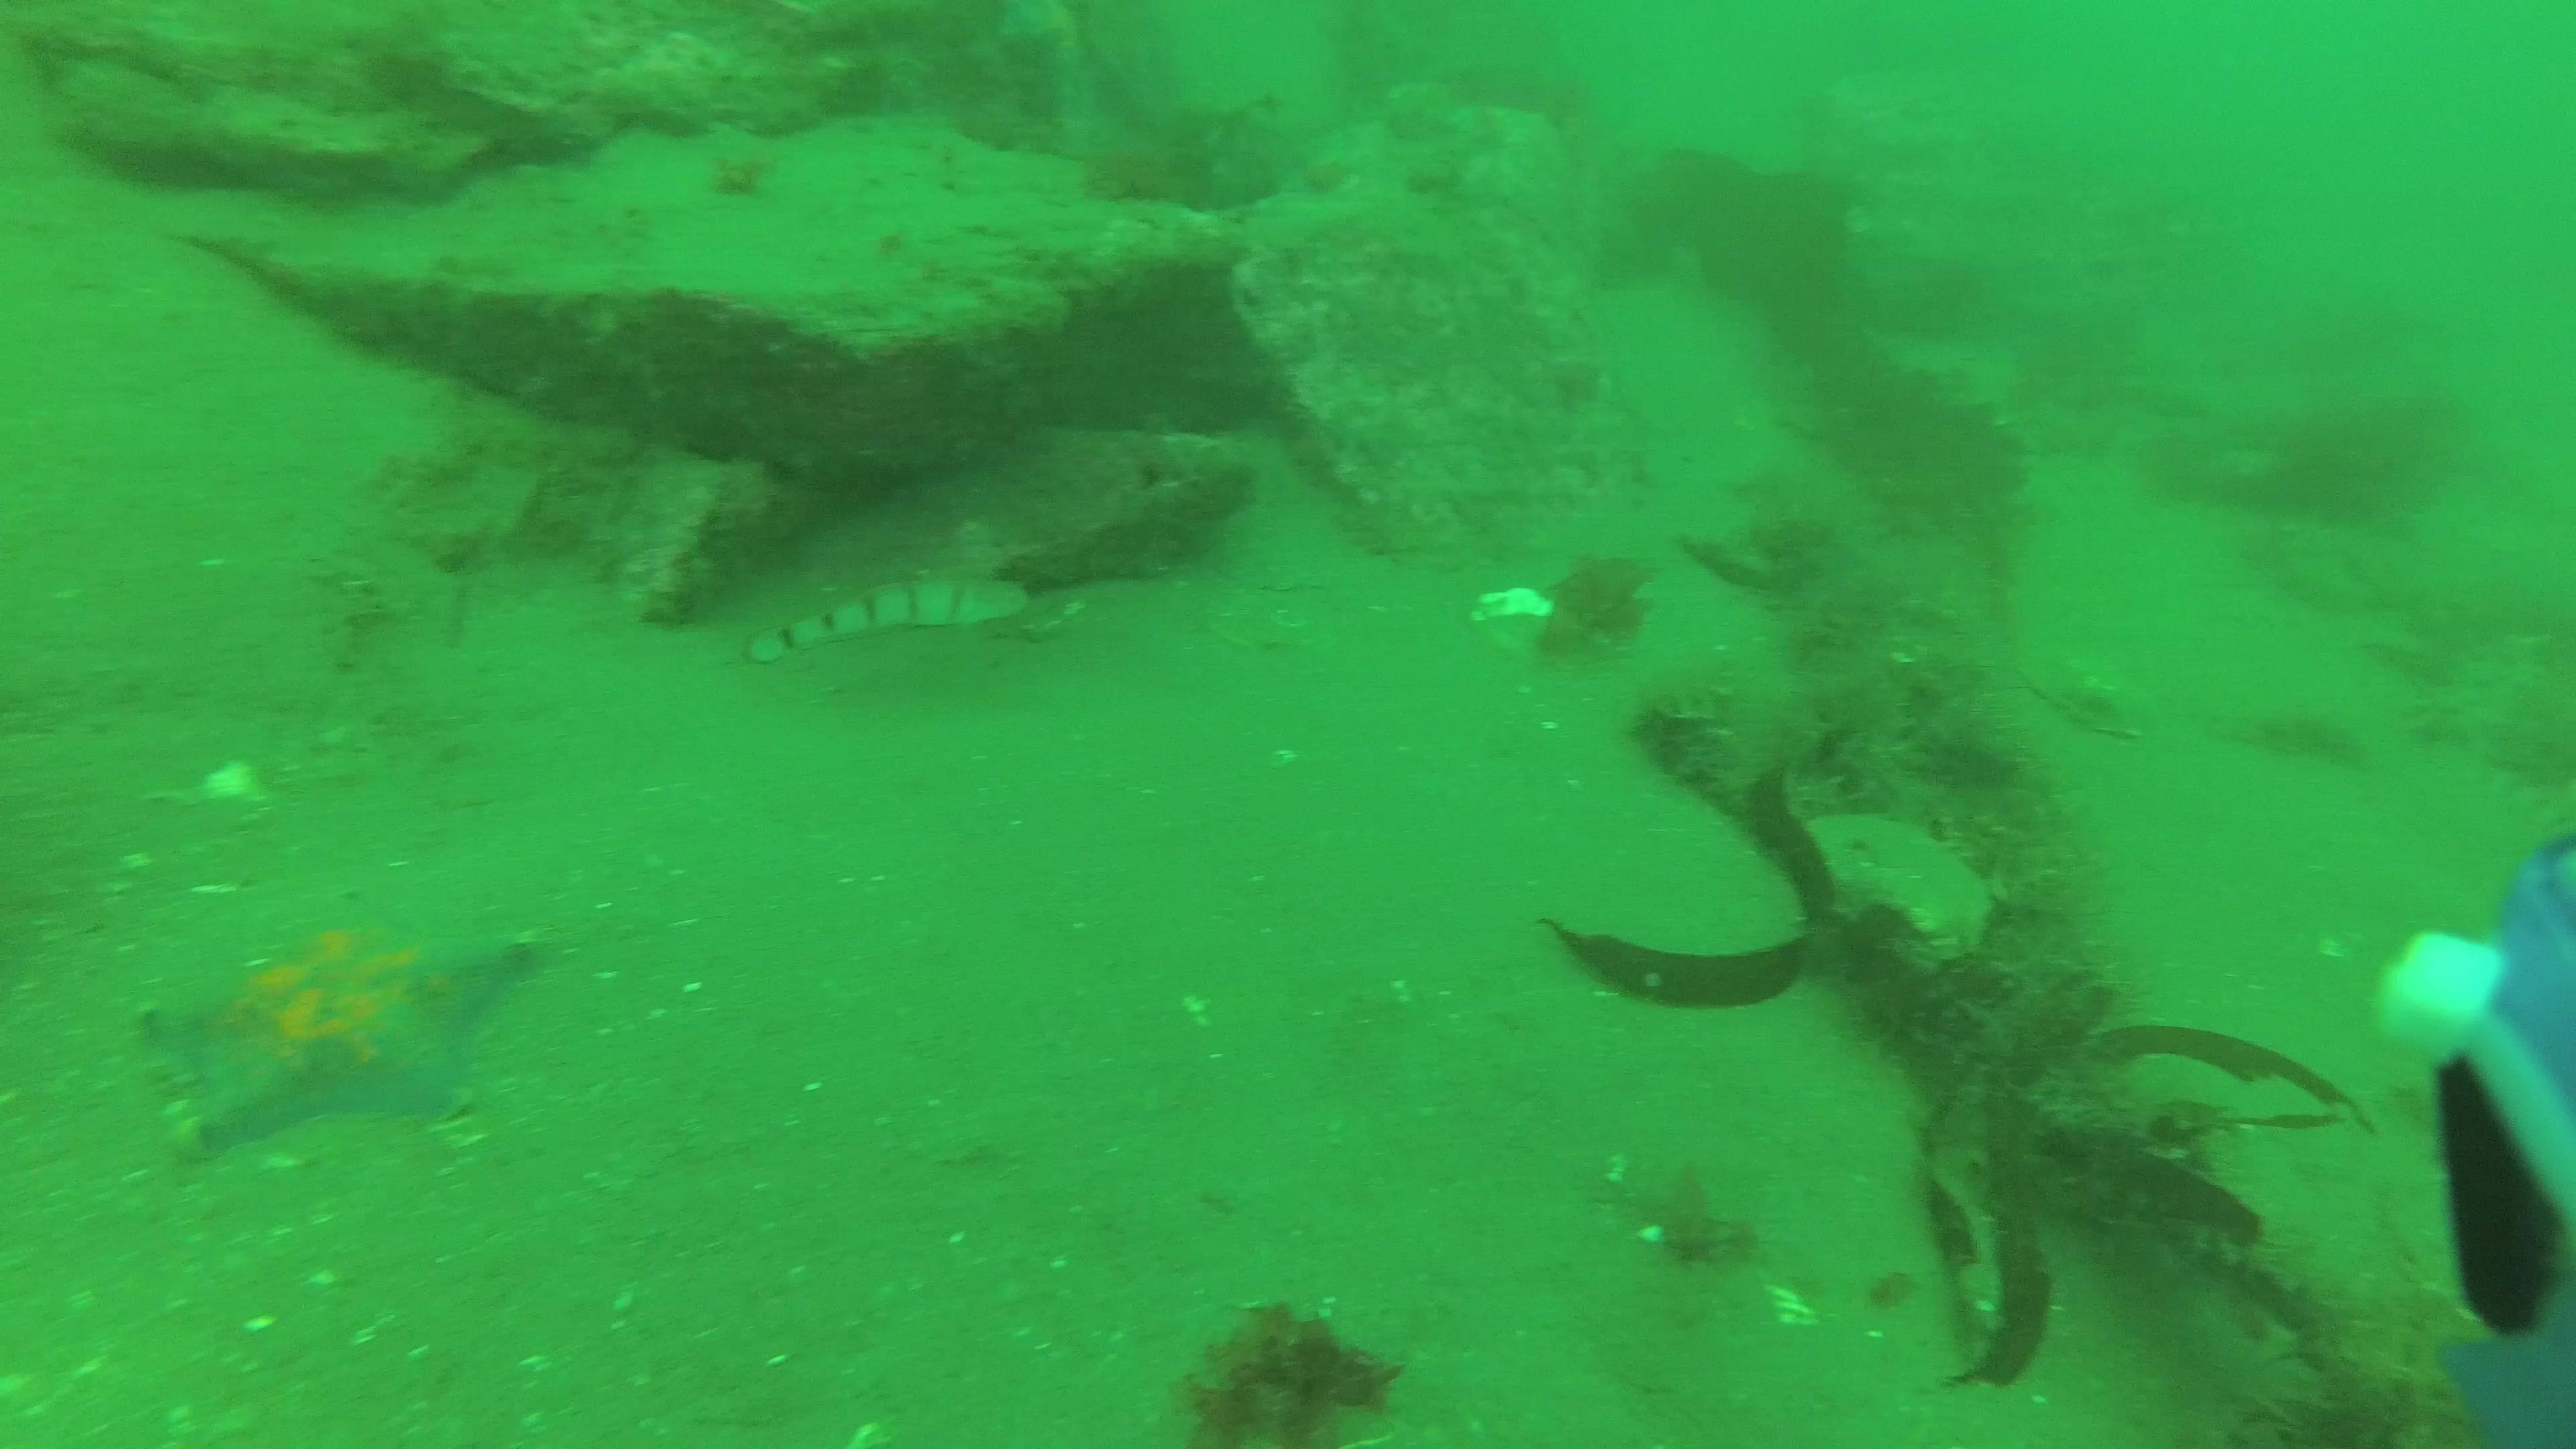starfish: (127, 893, 554, 1146)
